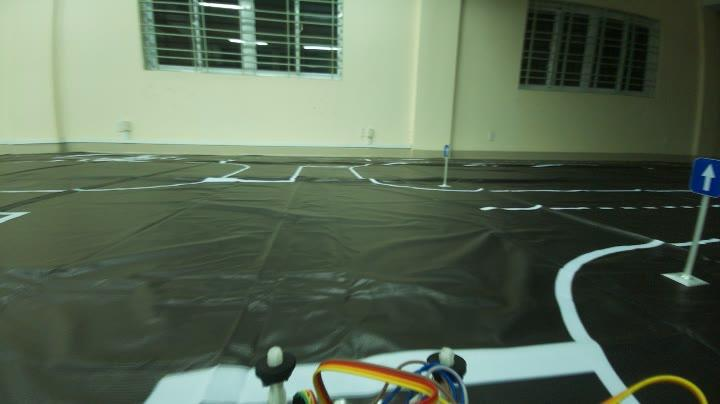onewayroad: (690, 158, 720, 203), (442, 142, 451, 154)
